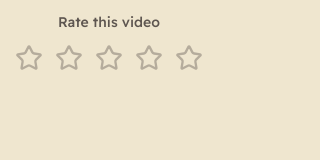
Scenario: hovering › previews the rating under the pointer
Hover over the button named "Rate 3 out of 5" at (109, 58), box [91,40,127,76]
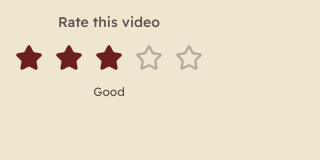
Check: the text "Good" is shown, box [93,84,125,100]
